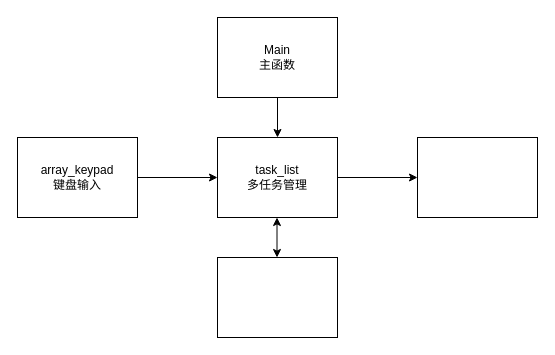
Some shapes in this 555 by 355 pixel diagram are drawn without their labels. The shapes that lost their labels are listed below. From the top down, each one's centre as x and y in pixels, then its label:
At point 477,177: "sh1106 显示输出".
At point 277,297: "counter_mod 计算器算法".
